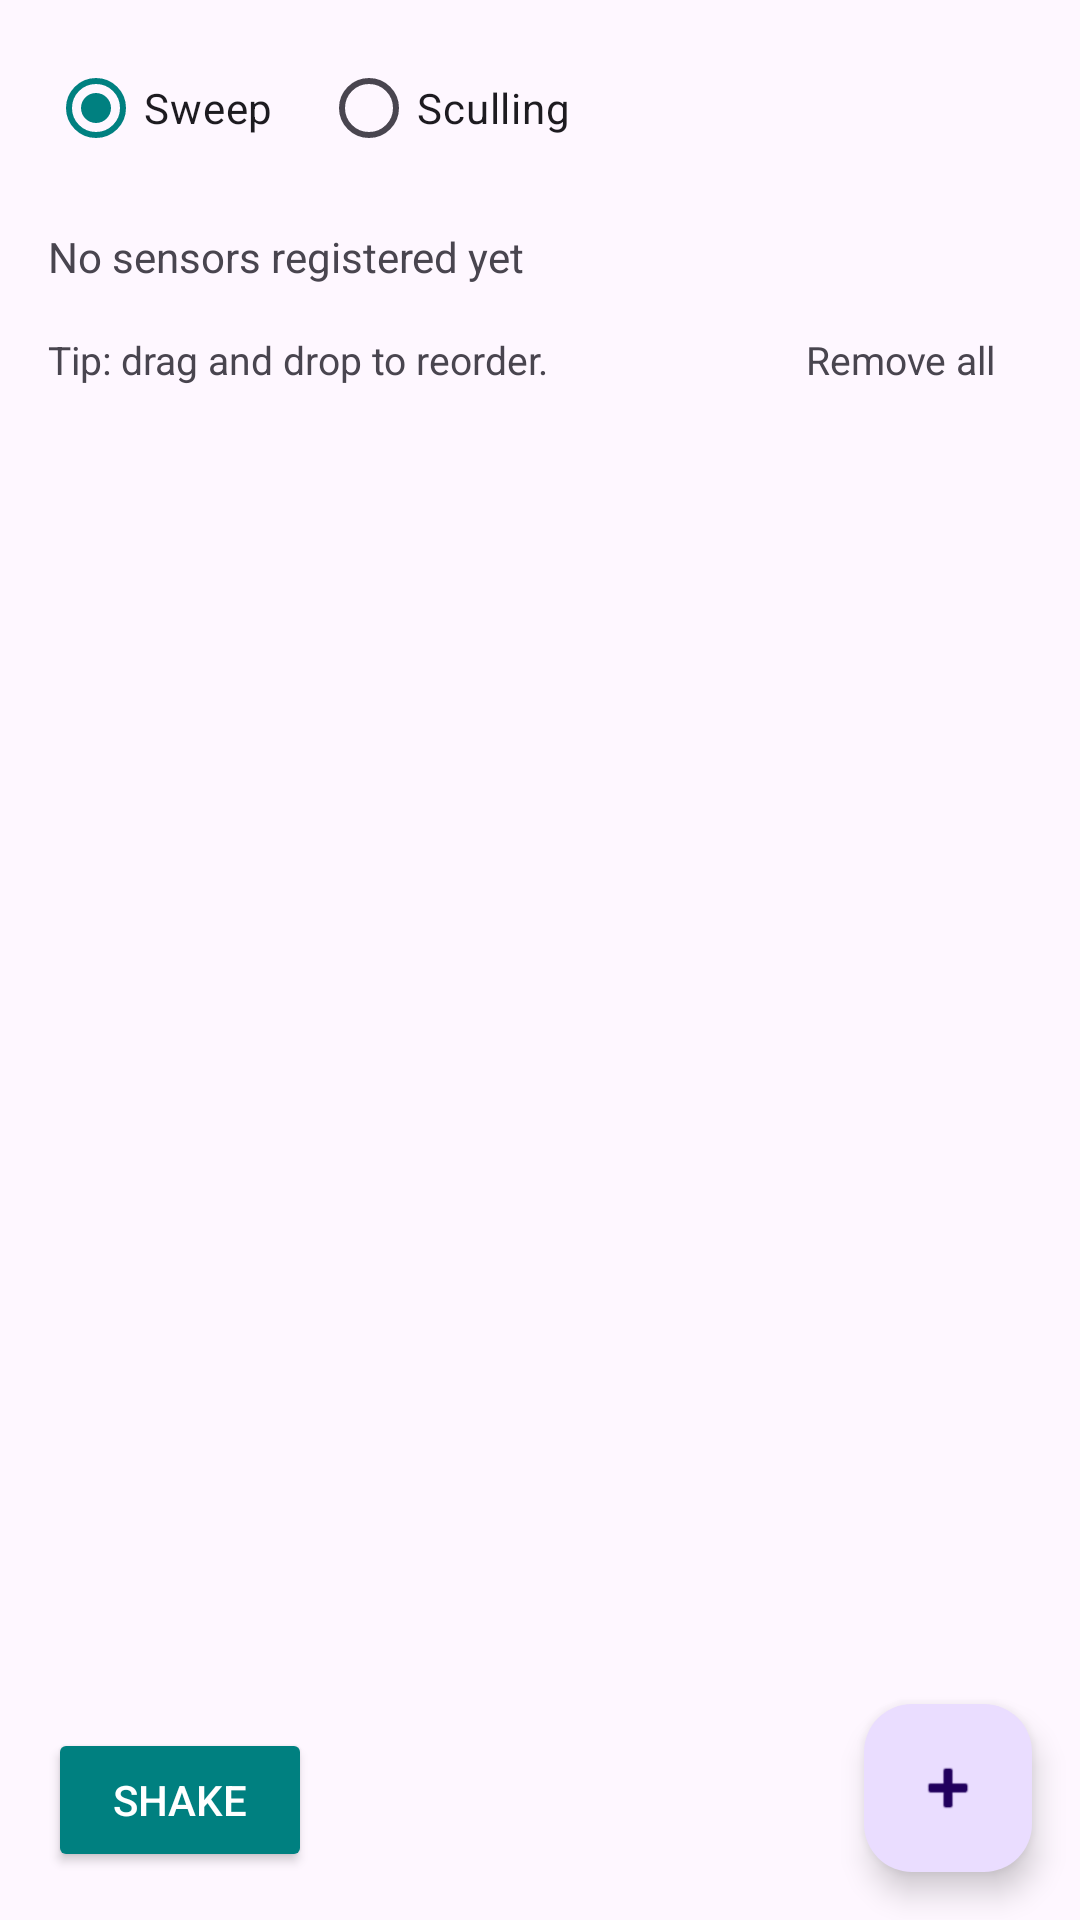

Icons on this 1080 × 1920 Android screen, each with its box as (x1, y1, x2, y2):
Add sensor: (864, 1704, 1032, 1872)
